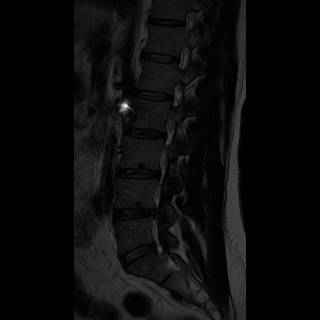RFS0: (161, 75, 187, 112)
